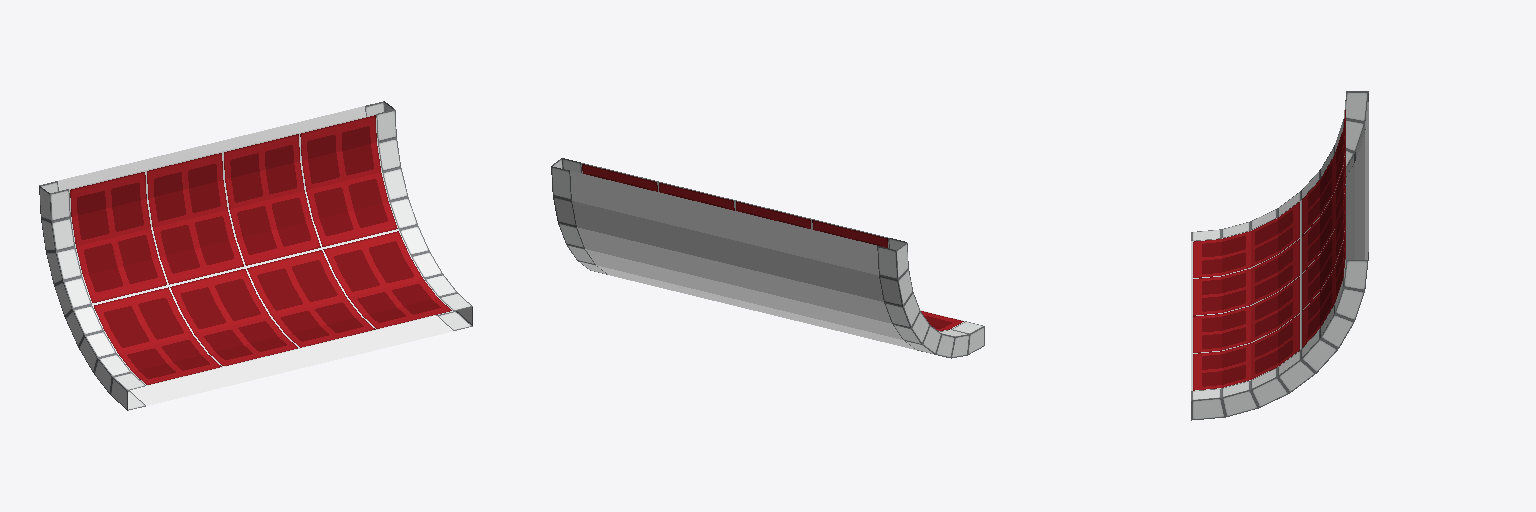
The picture shows the model from 3 angles: view 1: azimuth 30°, elevation 25°; view 2: azimuth 150°, elevation 25°; view 3: azimuth 270°, elevation 25°; orthographic projection.
Visible parts, largest first — view 1: WhichOneCurve1; view 2: WhichOneCurve1; view 3: WhichOneCurve1.
Part boxes in pixels (left/top/right/bottom): WhichOneCurve1: left=39, top=101, right=472, bottom=410; WhichOneCurve1: left=551, top=158, right=984, bottom=358; WhichOneCurve1: left=1191, top=91, right=1368, bottom=420.
Bounding box in the file's own units: 9 × 4 × 4.
3 materials, 2 textured.